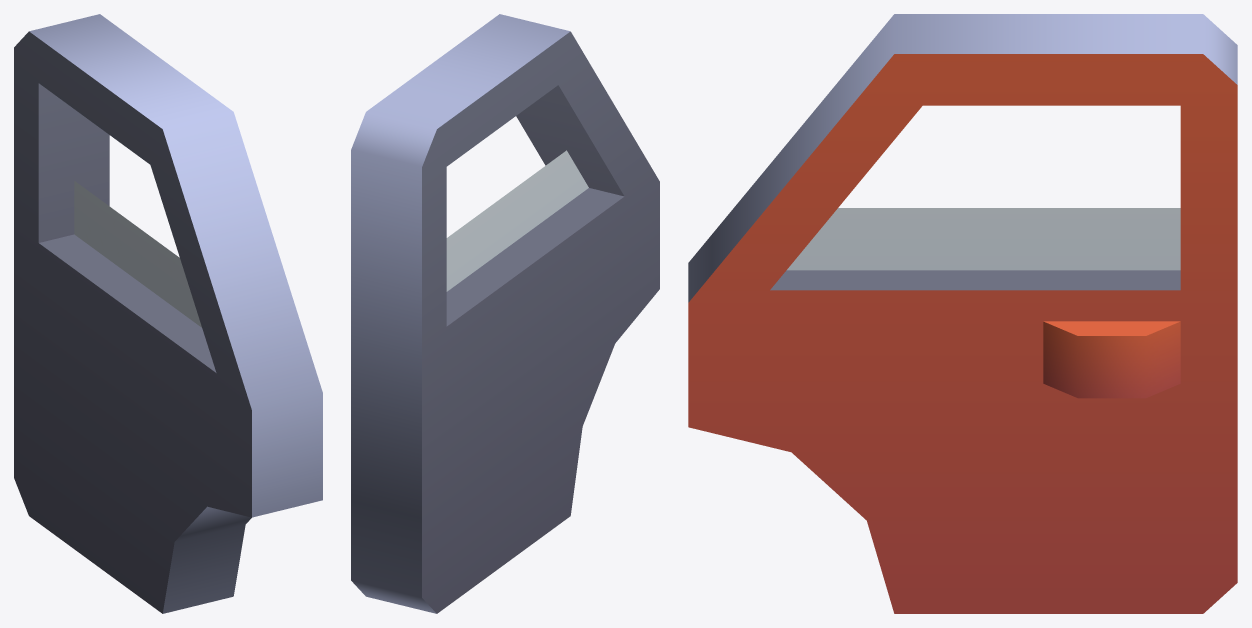
File: debris-door-window.glb
3 views of the same model, side by side, from view 1: azimuth 30°, elevation 25°; view 2: azimuth 150°, elevation 25°; view 3: azimuth 270°, elevation 25° (orthographic). The views are drawn at different scales.
Visible parts, largest first — view 1: debris-door-window; view 2: debris-door-window; view 3: debris-door-window.
Part boxes in pixels (bbox=[...]): debris-door-window: bbox=[14, 14, 322, 613]; debris-door-window: bbox=[351, 14, 659, 613]; debris-door-window: bbox=[688, 14, 1237, 613].
Size of the model in its own units: 0.188 by 0.9 by 0.8.
1 material, 1 textured.
